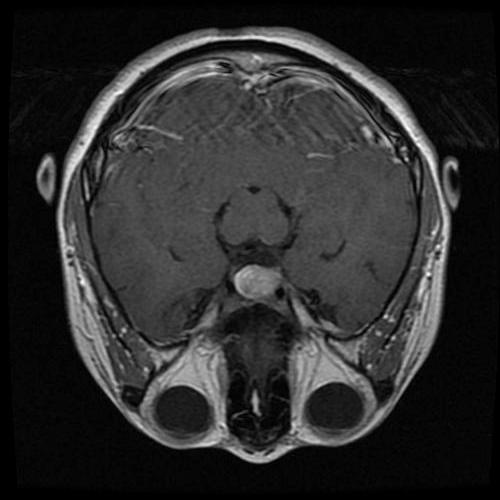Tumour-Pituitary: (224, 257, 287, 309)
